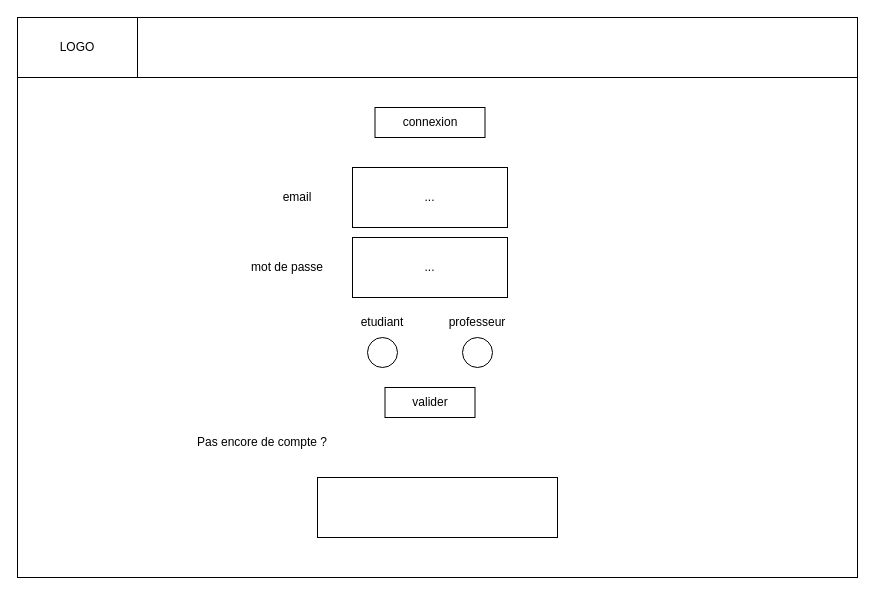
Some shapes in this 875 by 595 pixel diagram are drawn without their labels. The shapes that lost their labels are listed below. From the top down, each one's centre as x and y in pixels, then its label:
the point at 497,47: nom du site
the point at 437,507: Créer un compte
